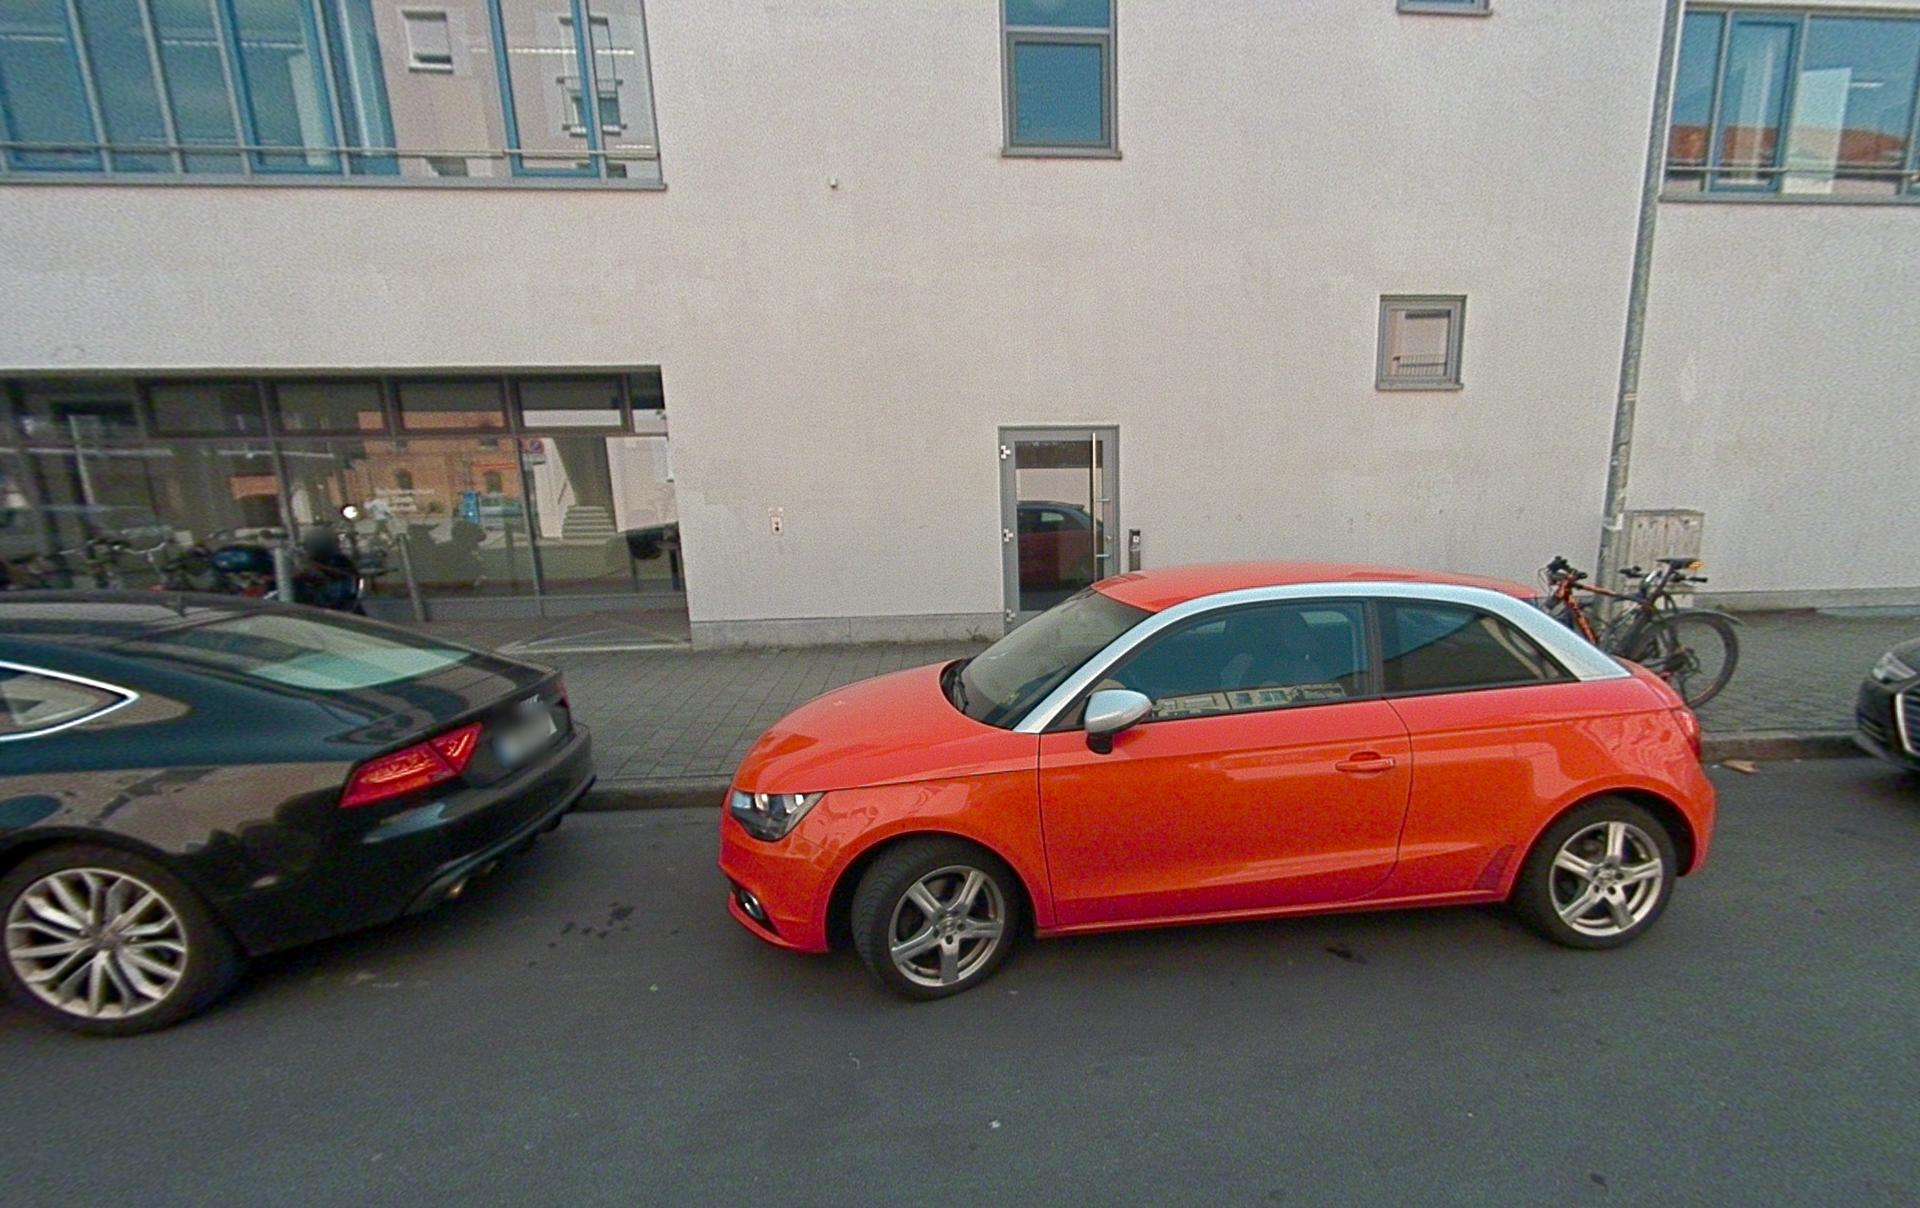car: (718, 560, 1719, 1001), (1, 592, 597, 1037), (161, 526, 366, 614), (1852, 635, 1920, 776), (1016, 499, 1109, 588)
